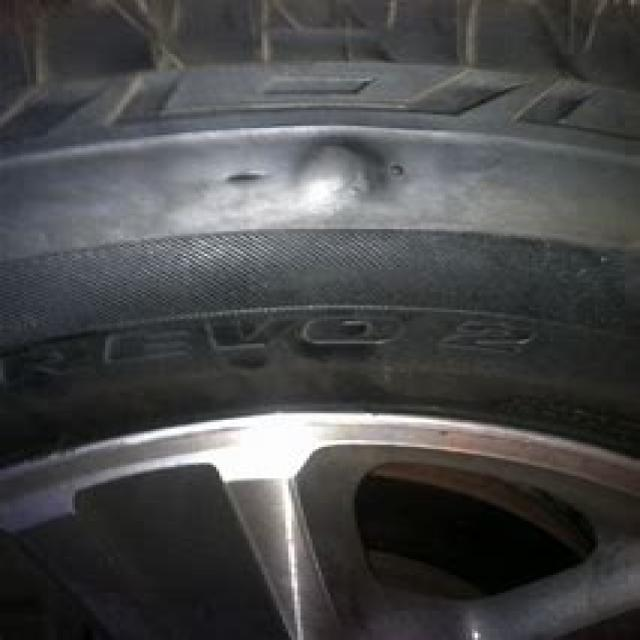Bulge: (273, 124, 399, 230)
